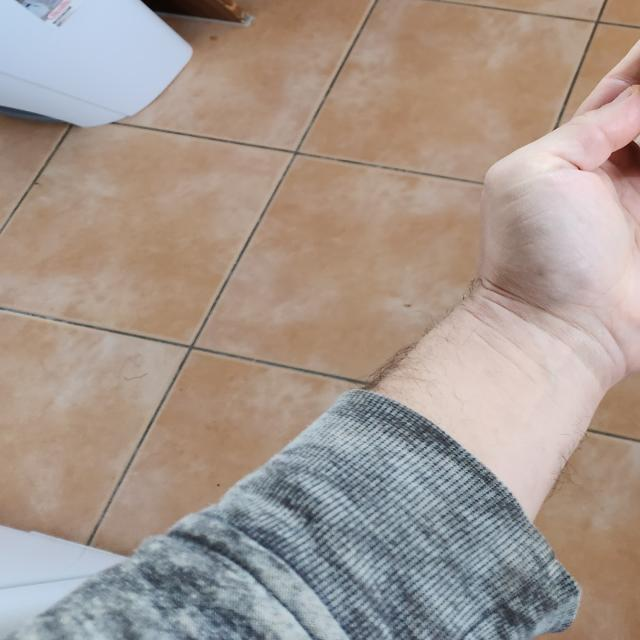black pepper: (638, 0, 640, 189)
